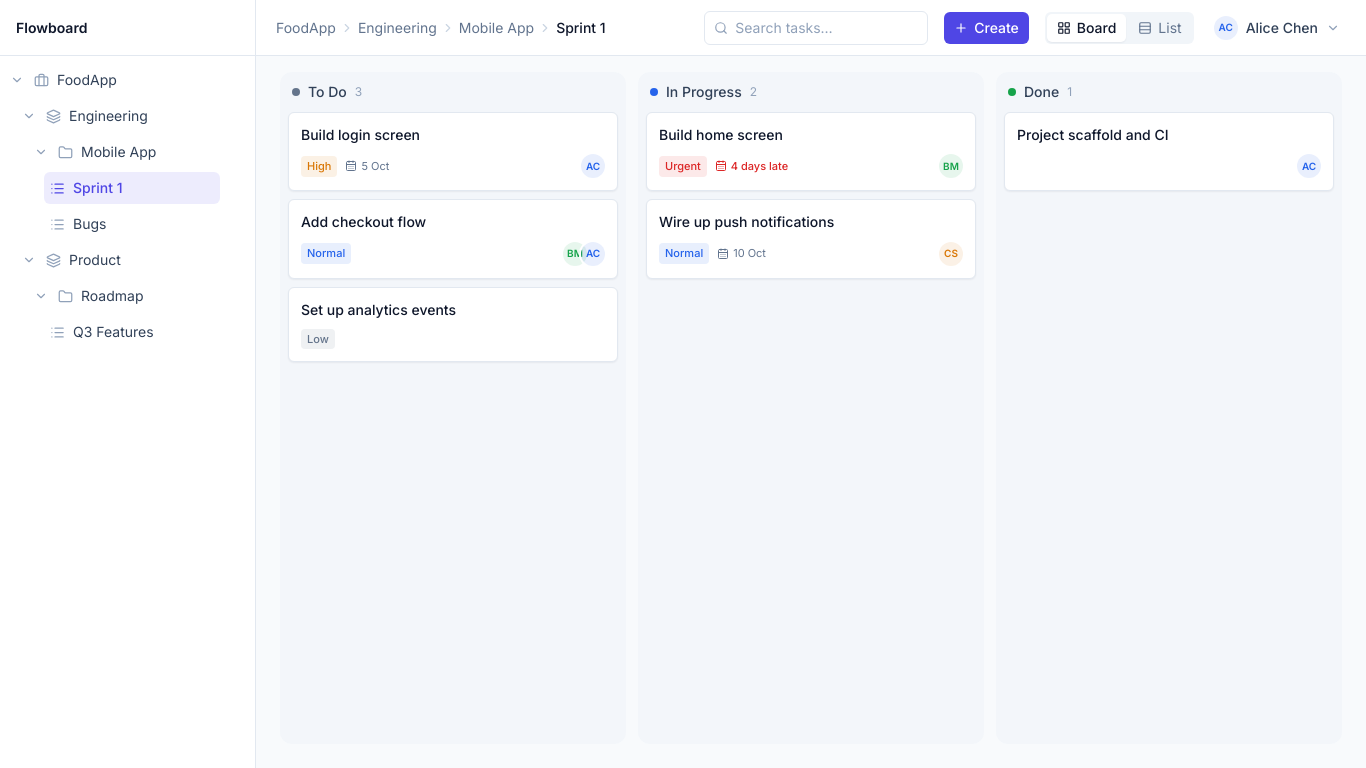
Test case: Switching user changes the tree › shrinks the tree the moment Bob is selected
Click the button with aria-label "Switch user" at coordinates (1278, 28), box x1=1210 y1=12 x2=1346 y2=44
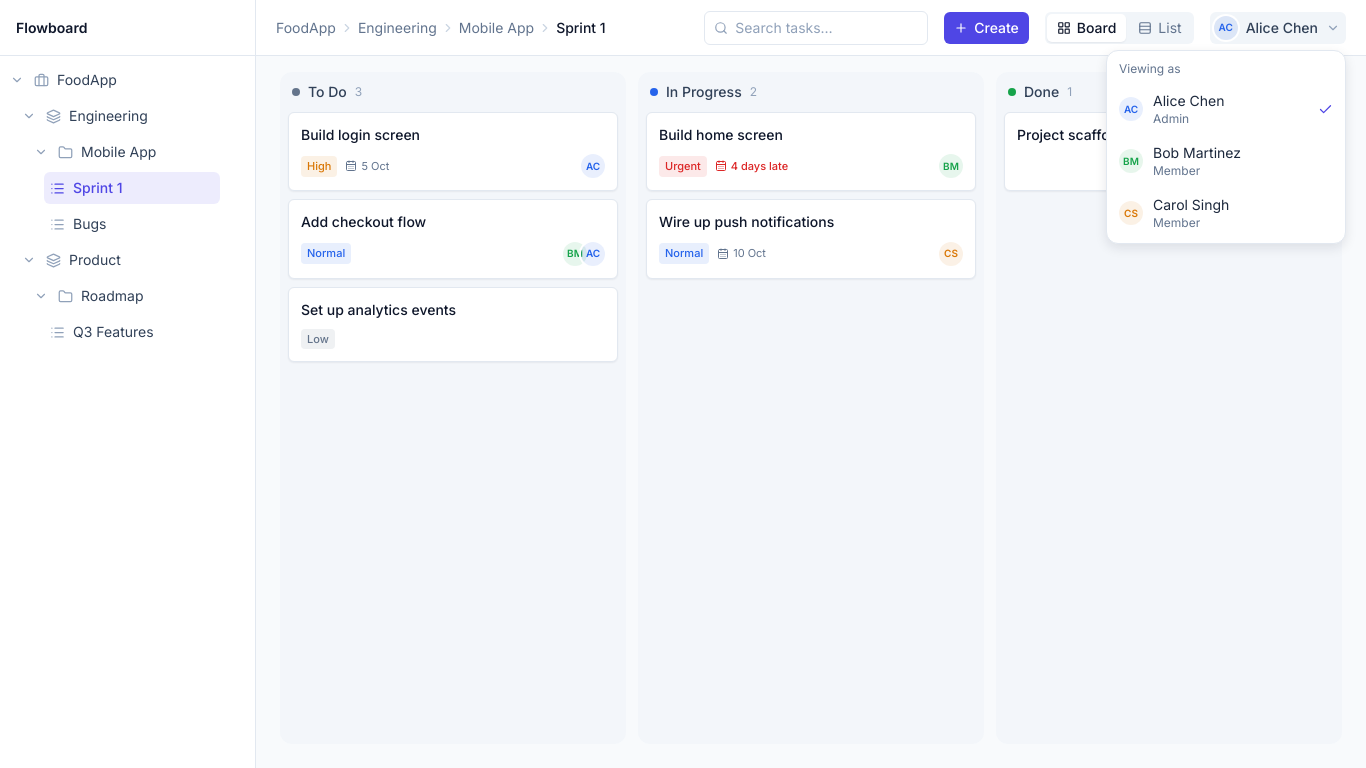
Click the menu item "BM Bob Martinez member" at coordinates (1226, 161), box x1=1111 y1=135 x2=1341 y2=187
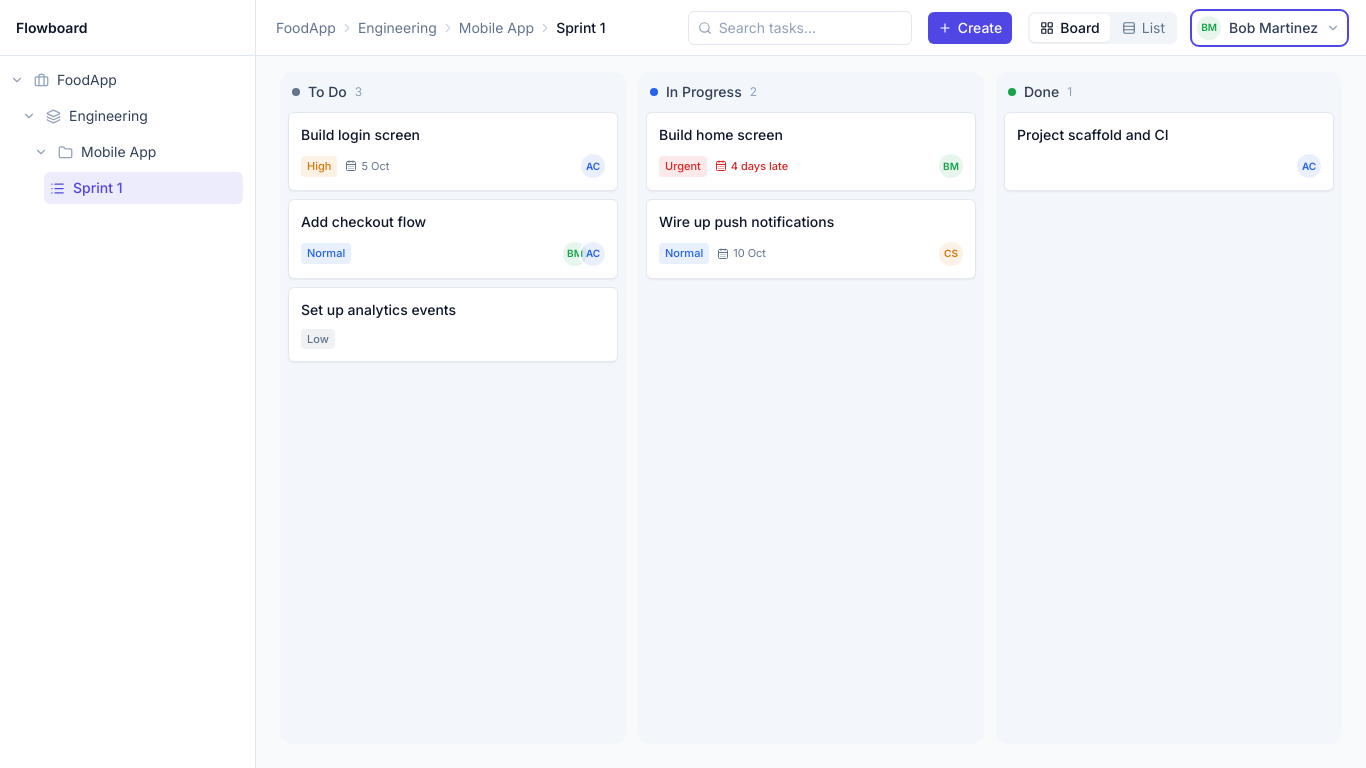
Check: the button "Bugs" no longer shows "Bugs"
Check: the button "Product" no longer shows "Product"
Check: the button "Roadmap" no longer shows "Roadmap"
